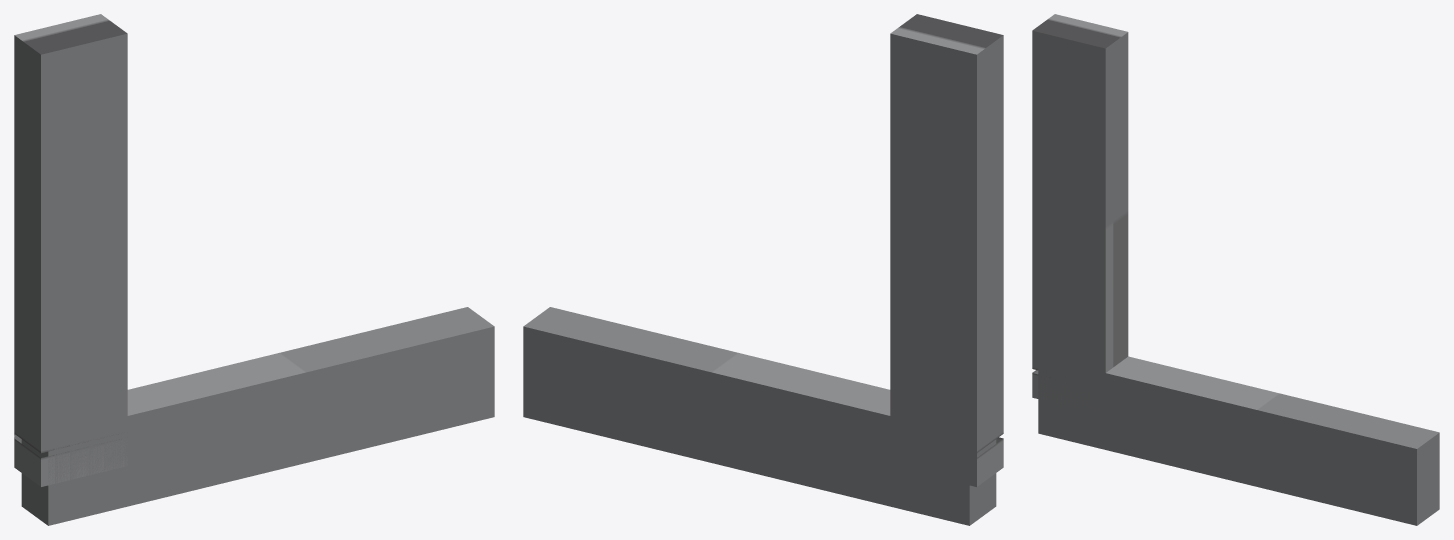
3 renders of one model, left to right at view 1: azimuth 30°, elevation 25°; view 2: azimuth 150°, elevation 25°; view 3: azimuth 330°, elevation 25°, orthographic. The views are drawn at different scales.
Size of the model in its own units: 0.9056 by 0.9026 by 0.0927.
